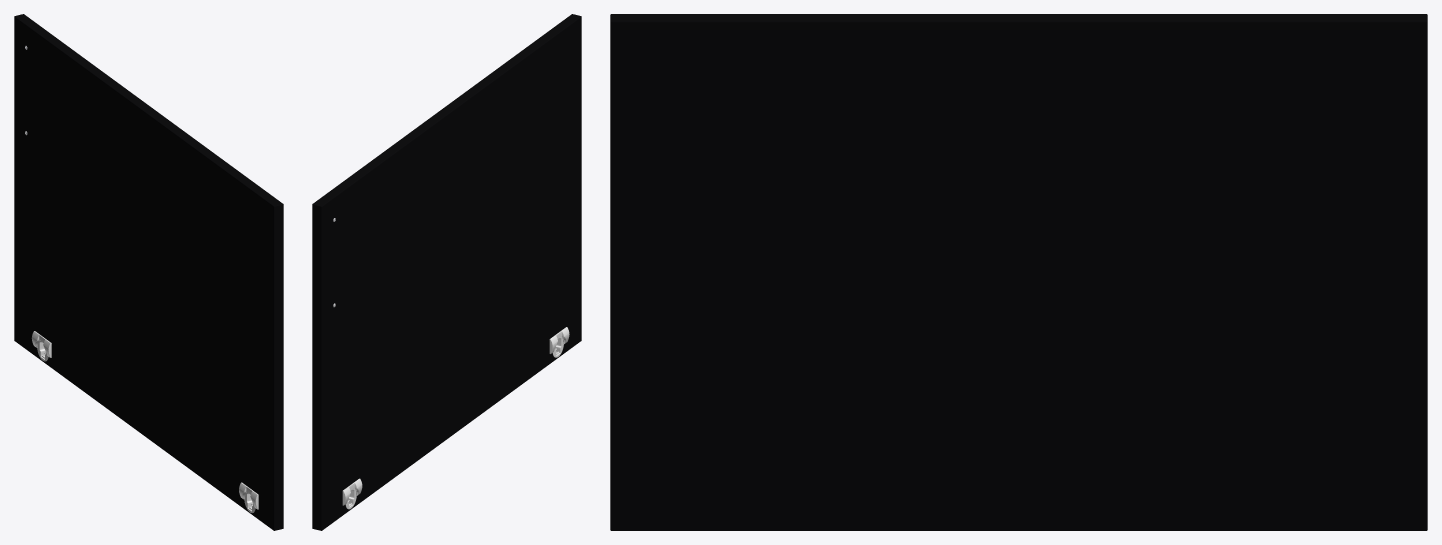
Rendered from Kitchen01Door01.obj.
The picture shows the model from 3 angles, left to right: view 1: azimuth 30°, elevation 25°; view 2: azimuth 150°, elevation 25°; view 3: azimuth 270°, elevation 25°; orthographic projection. The views are drawn at different scales.
Parts seen in each view (by area): view 1: Kitchen01Door01; view 2: Kitchen01Door01; view 3: Kitchen01Door01.
Part boxes in pixels (bbox=[...]): Kitchen01Door01: bbox=[14, 14, 283, 530]; Kitchen01Door01: bbox=[312, 14, 581, 530]; Kitchen01Door01: bbox=[610, 14, 1427, 530].
Bounding box in the file's own units: 0.0249 × 0.5969 × 0.8668.
3 materials, 2 textured.
